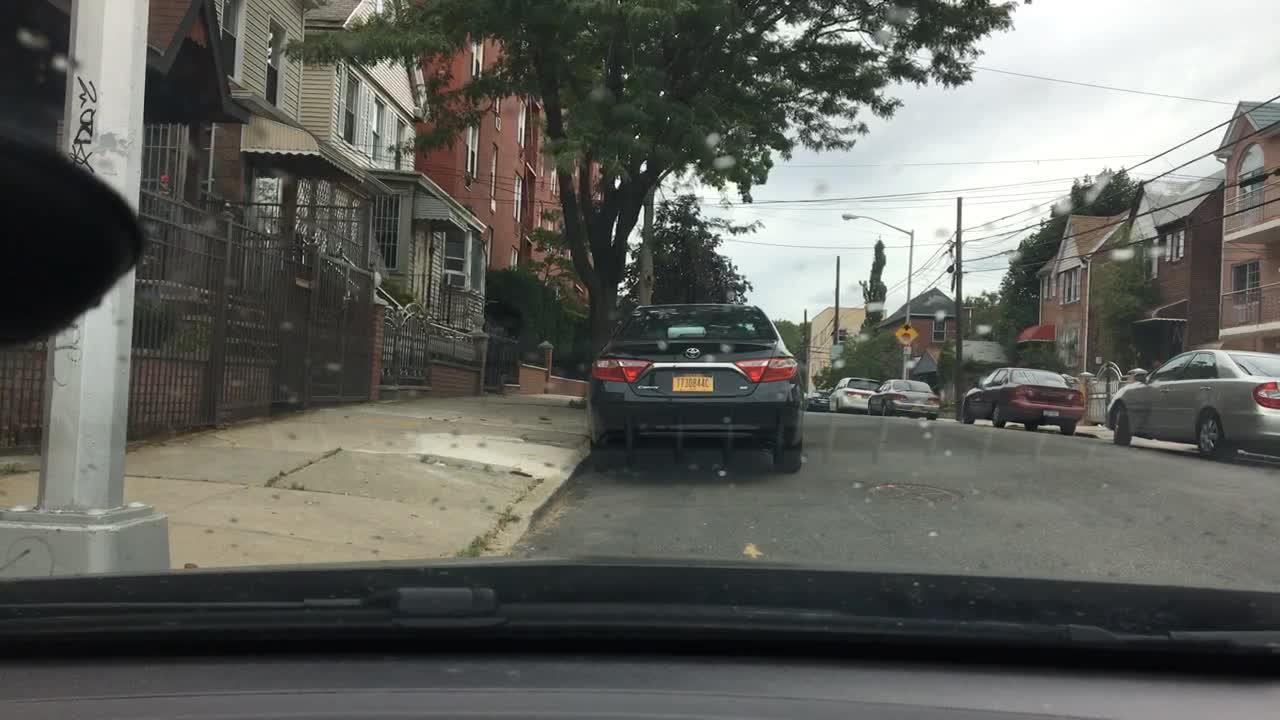car: (581, 297, 806, 475), (1098, 345, 1275, 463), (955, 365, 1088, 433), (864, 378, 944, 420), (825, 371, 884, 412), (799, 386, 835, 409)
traffic sign: (888, 322, 917, 349), (825, 341, 844, 360)
